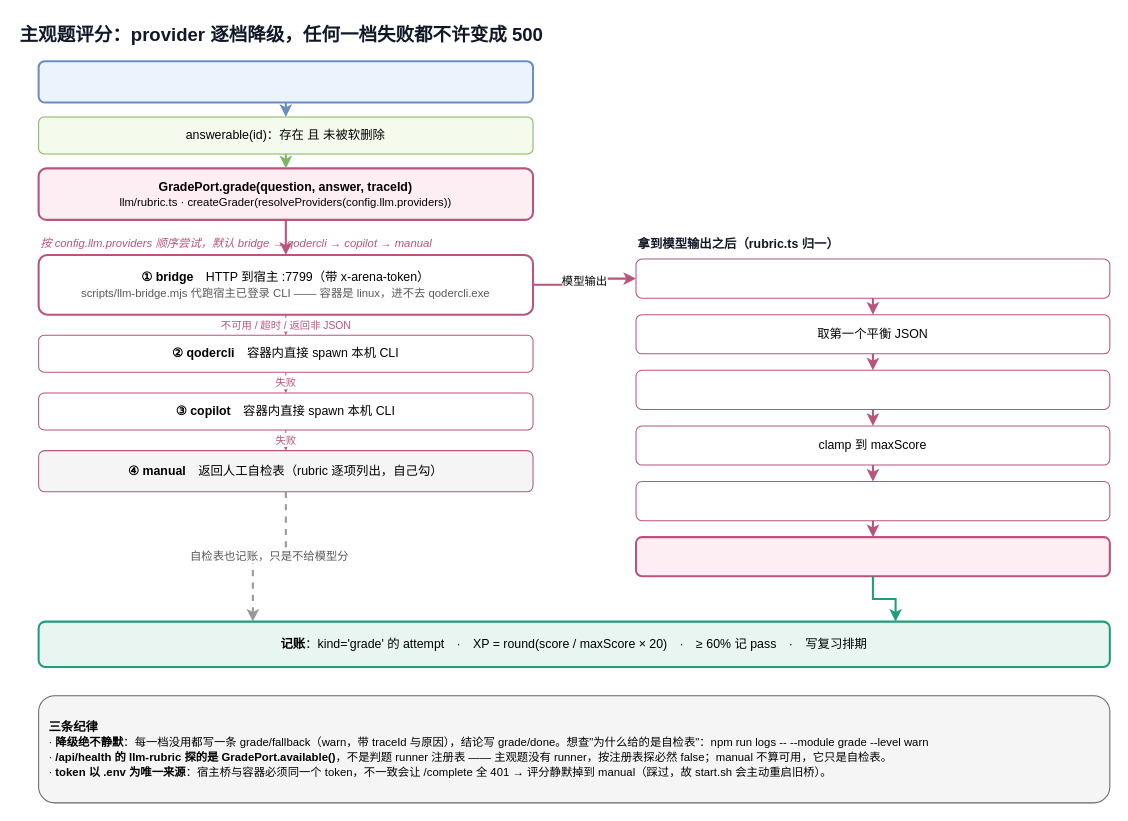
The diagram is 1128 pixels wide and 821 high, and some of its shapes have lost their labels. The shapes that lost their labels are listed below. From the top down, each one's box as (x1, y1, x2, y2) in pixels, then its label:
(37, 60, 534, 103): POST /api/grade questionId + answer
(635, 258, 1110, 298): 剥 code fence
(635, 369, 1110, 409): zod 校验
(635, 480, 1110, 521): 按 rubric 逐项归一：hit / earned / nextStep
(634, 536, 1110, 577): RubricVerdict
